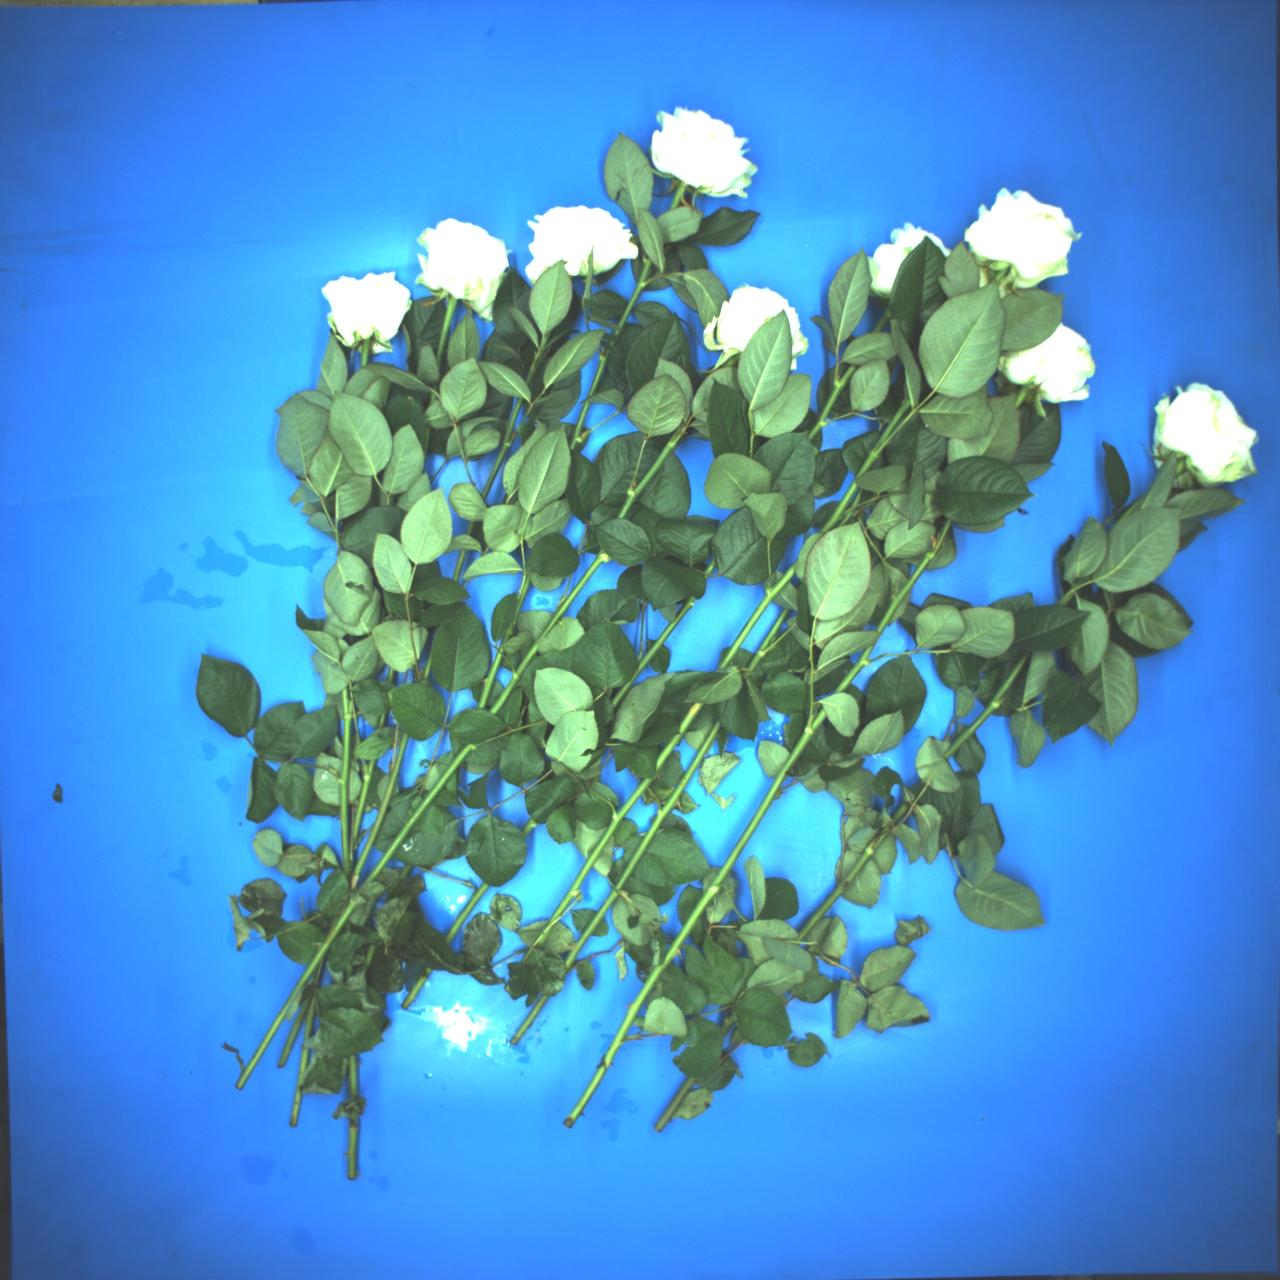Stem: (558, 706, 829, 1130), (561, 720, 723, 973), (233, 897, 358, 1091), (531, 774, 652, 953), (488, 552, 608, 714), (361, 741, 477, 887), (819, 397, 914, 538), (942, 648, 1036, 763), (796, 828, 887, 942), (347, 733, 413, 890), (607, 594, 699, 707), (713, 557, 801, 672), (871, 518, 956, 634), (614, 422, 687, 520), (475, 397, 529, 499), (803, 361, 858, 442), (649, 699, 704, 774), (613, 258, 656, 328), (442, 881, 490, 945), (747, 606, 792, 672), (829, 641, 879, 699), (277, 994, 312, 1070), (339, 688, 353, 878), (347, 756, 376, 845), (653, 1075, 696, 1133), (509, 992, 550, 1047), (501, 576, 532, 646), (431, 295, 458, 369), (478, 653, 504, 709), (401, 966, 433, 1010), (586, 350, 611, 400), (568, 402, 591, 451), (1058, 577, 1087, 608), (523, 349, 546, 386), (393, 862, 414, 890), (290, 1087, 302, 1128), (348, 1125, 358, 1180), (872, 309, 892, 335), (452, 549, 467, 581), (1010, 384, 1029, 409), (837, 508, 857, 530), (890, 801, 910, 823), (669, 185, 686, 212), (298, 1048, 309, 1085), (305, 996, 314, 1041), (719, 1014, 737, 1036), (422, 652, 436, 680), (701, 559, 719, 580), (313, 956, 326, 985), (349, 1055, 358, 1097), (519, 818, 537, 837), (362, 944, 376, 966), (851, 488, 863, 508), (376, 710, 388, 729), (361, 341, 369, 367), (465, 520, 476, 536), (1175, 459, 1185, 475), (387, 667, 396, 683), (504, 985, 510, 993), (499, 647, 505, 653)
flower: (956, 171, 1094, 304), (633, 94, 770, 213), (401, 210, 517, 321), (993, 318, 1105, 423), (1150, 381, 1260, 488), (519, 199, 640, 284), (697, 280, 809, 366), (851, 212, 949, 302), (321, 270, 415, 358), (973, 266, 992, 290)
